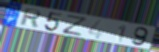1: (117, 25, 127, 43)
4: (87, 19, 104, 40)
5: (44, 11, 65, 32)
9: (130, 27, 150, 47)
R: (18, 7, 43, 28)
Z: (61, 13, 89, 37)
